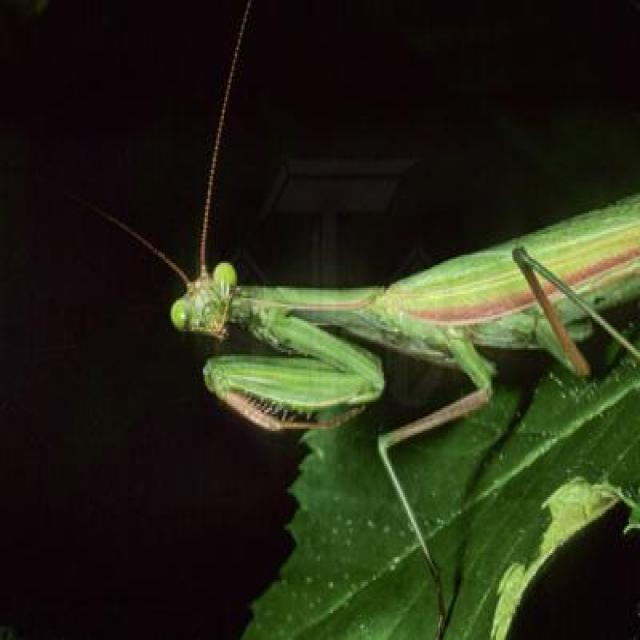antennae: (202, 1, 253, 277), (96, 207, 199, 283)
body: (169, 215, 640, 352)
insect: (94, 0, 638, 619)
legs: (374, 315, 492, 596), (200, 303, 384, 442), (510, 241, 640, 382)
mouthpart: (203, 318, 233, 342)
wings: (377, 198, 640, 318)
